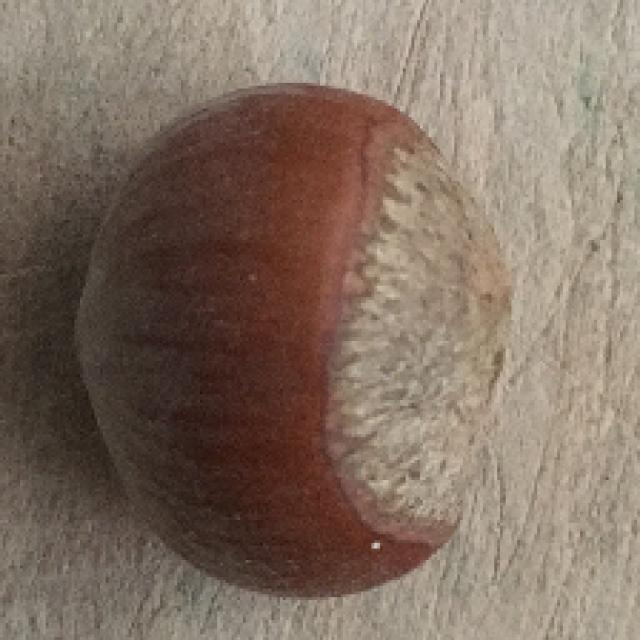qualityHazelnut: (68, 79, 495, 603)
